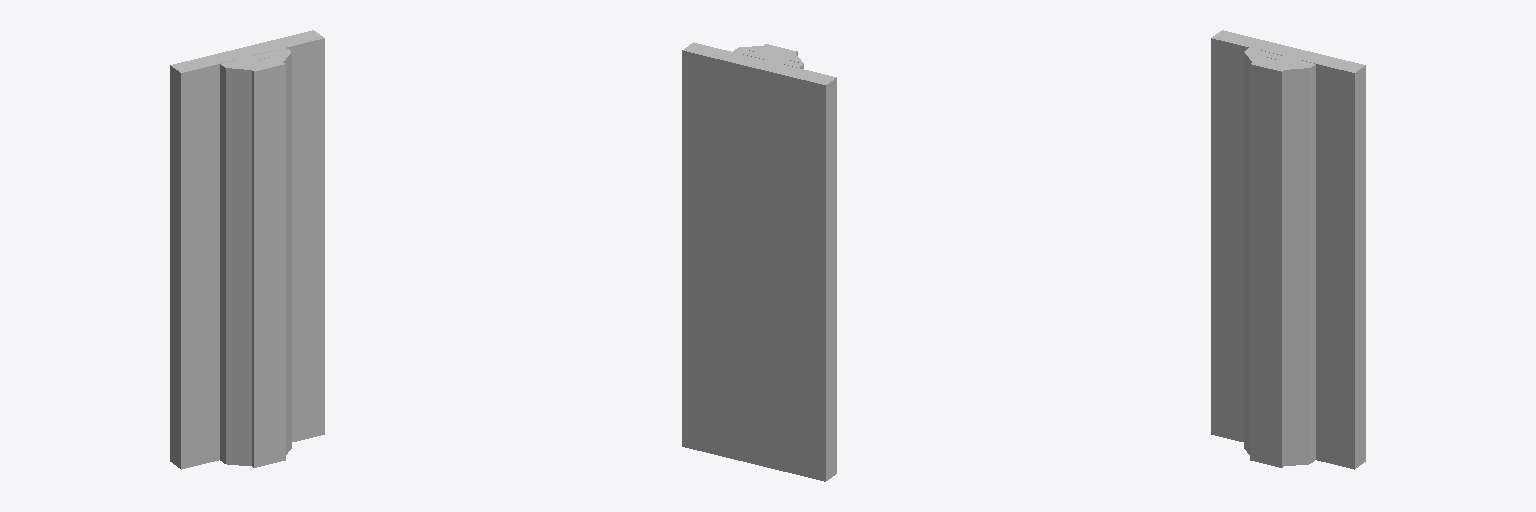
The model's file is cosma7_door.obj.
3 renders of one model, left to right at view 1: azimuth 30°, elevation 25°; view 2: azimuth 150°, elevation 25°; view 3: azimuth 330°, elevation 25°, orthographic.
Visible parts, largest first — view 1: Cube, Cube.002, Cube.001, Cube.004; view 2: Cube; view 3: Cube, Cube.002, Cube.001, Cube.004.
Boxes of the visible parts, <box> form: Cube: <box>170,30,324,469</box>; Cube.002: <box>252,62,285,467</box>; Cube.001: <box>226,52,291,465</box>; Cube.004: <box>220,48,290,463</box>; Cube: <box>682,42,836,481</box>; Cube: <box>1211,30,1365,469</box>; Cube.002: <box>1250,62,1283,467</box>; Cube.001: <box>1244,52,1309,465</box>; Cube.004: <box>1244,48,1315,463</box>.
Size of the model in its own units: 0.9972 by 2.63 by 0.3332.